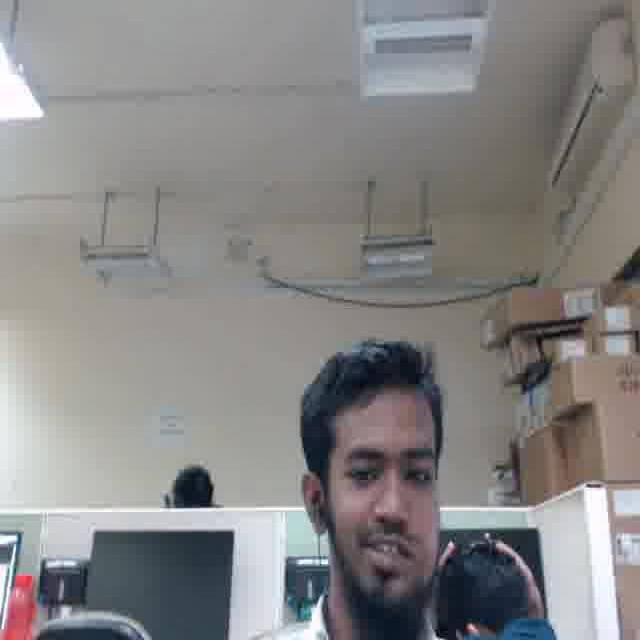Engaged: (327, 399, 442, 600)
